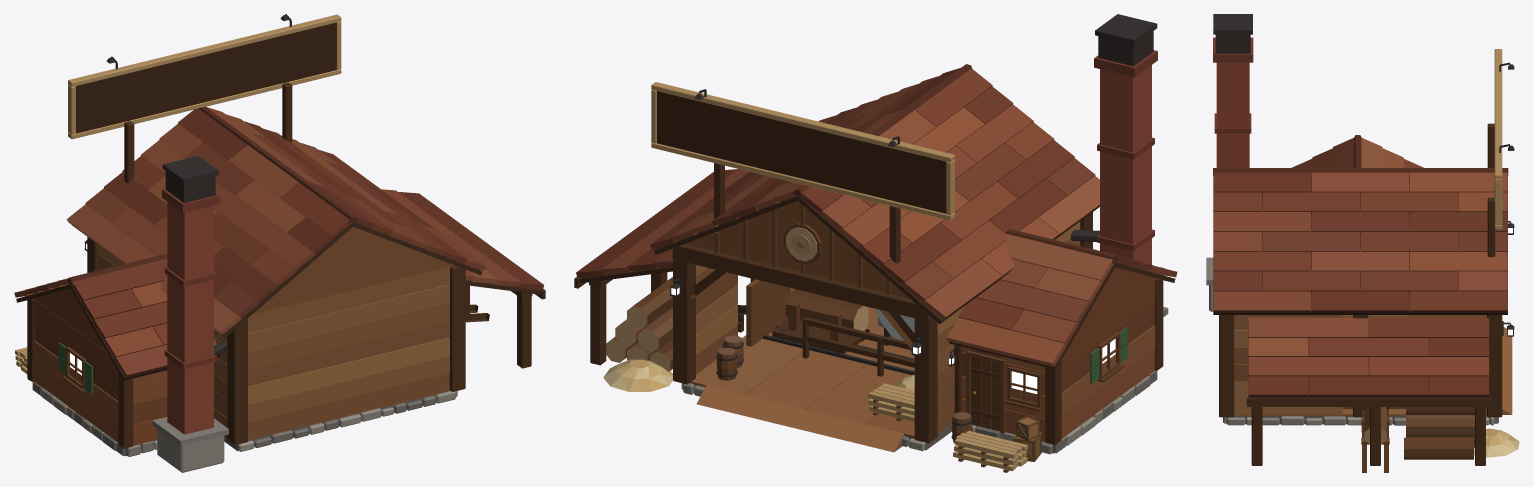
Rendered from Sawmill.glb.
3 views of the same model, side by side, from view 1: azimuth 30°, elevation 25°; view 2: azimuth 150°, elevation 25°; view 3: azimuth 270°, elevation 25° (orthographic). The views are drawn at different scales.
Parts seen in each view (by area): view 1: Body, Roof, Sign, Smokestack; view 2: Body, Roof, Sign, Door, Smokestack, Glow; view 3: Roof, Body, Smokestack.
Boxes of the visible parts, x1,y1,x2,y2 form: Body: (15,14,545,472); Roof: (14,107,544,380); Sign: (76,22,336,133); Smokestack: (165,171,215,202); Body: (574,14,1168,472); Roof: (576,64,1177,369); Sign: (657,91,946,213); Door: (971,356,1000,431); Smokestack: (1098,31,1153,66); Glow: (671,287,1115,393); Roof: (1213,135,1508,397); Body: (1206,14,1519,472); Smokestack: (1215,34,1250,53).
Size of what is drawn, in the model's own units: 64.05 by 42.3 by 42.94.
